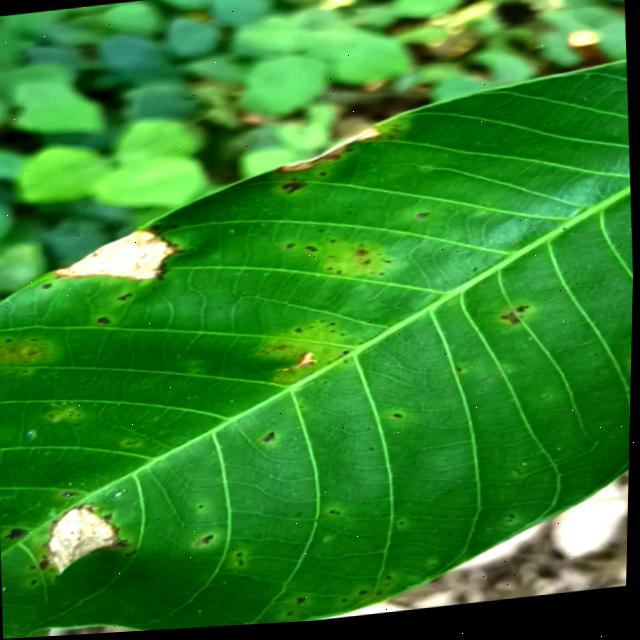Leaf-Blight: (52, 227, 179, 290), (44, 504, 123, 576), (275, 131, 383, 178)
